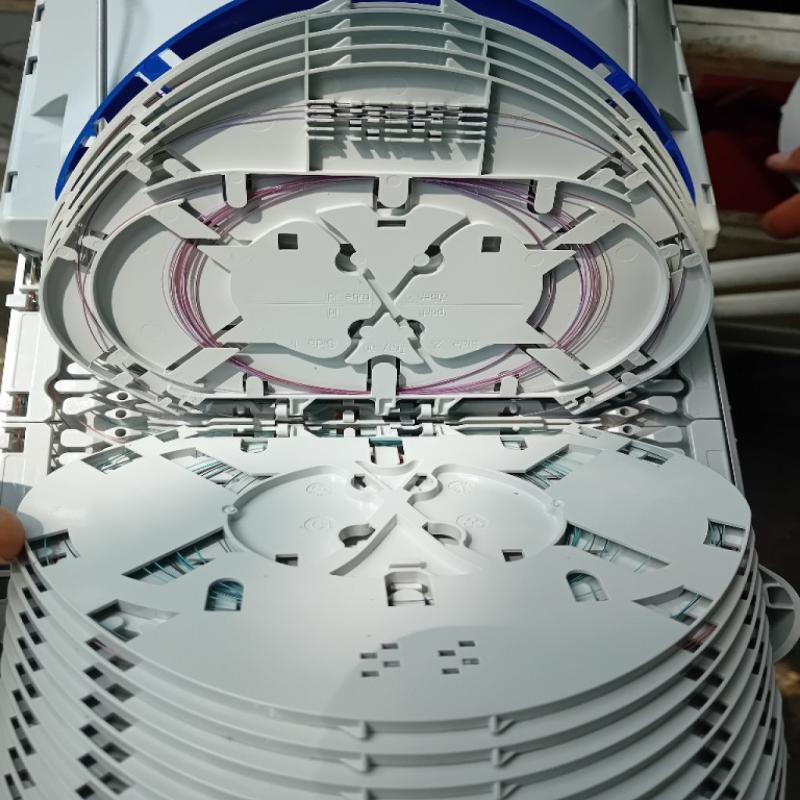NT-Muffen: (12, 0, 798, 798)
